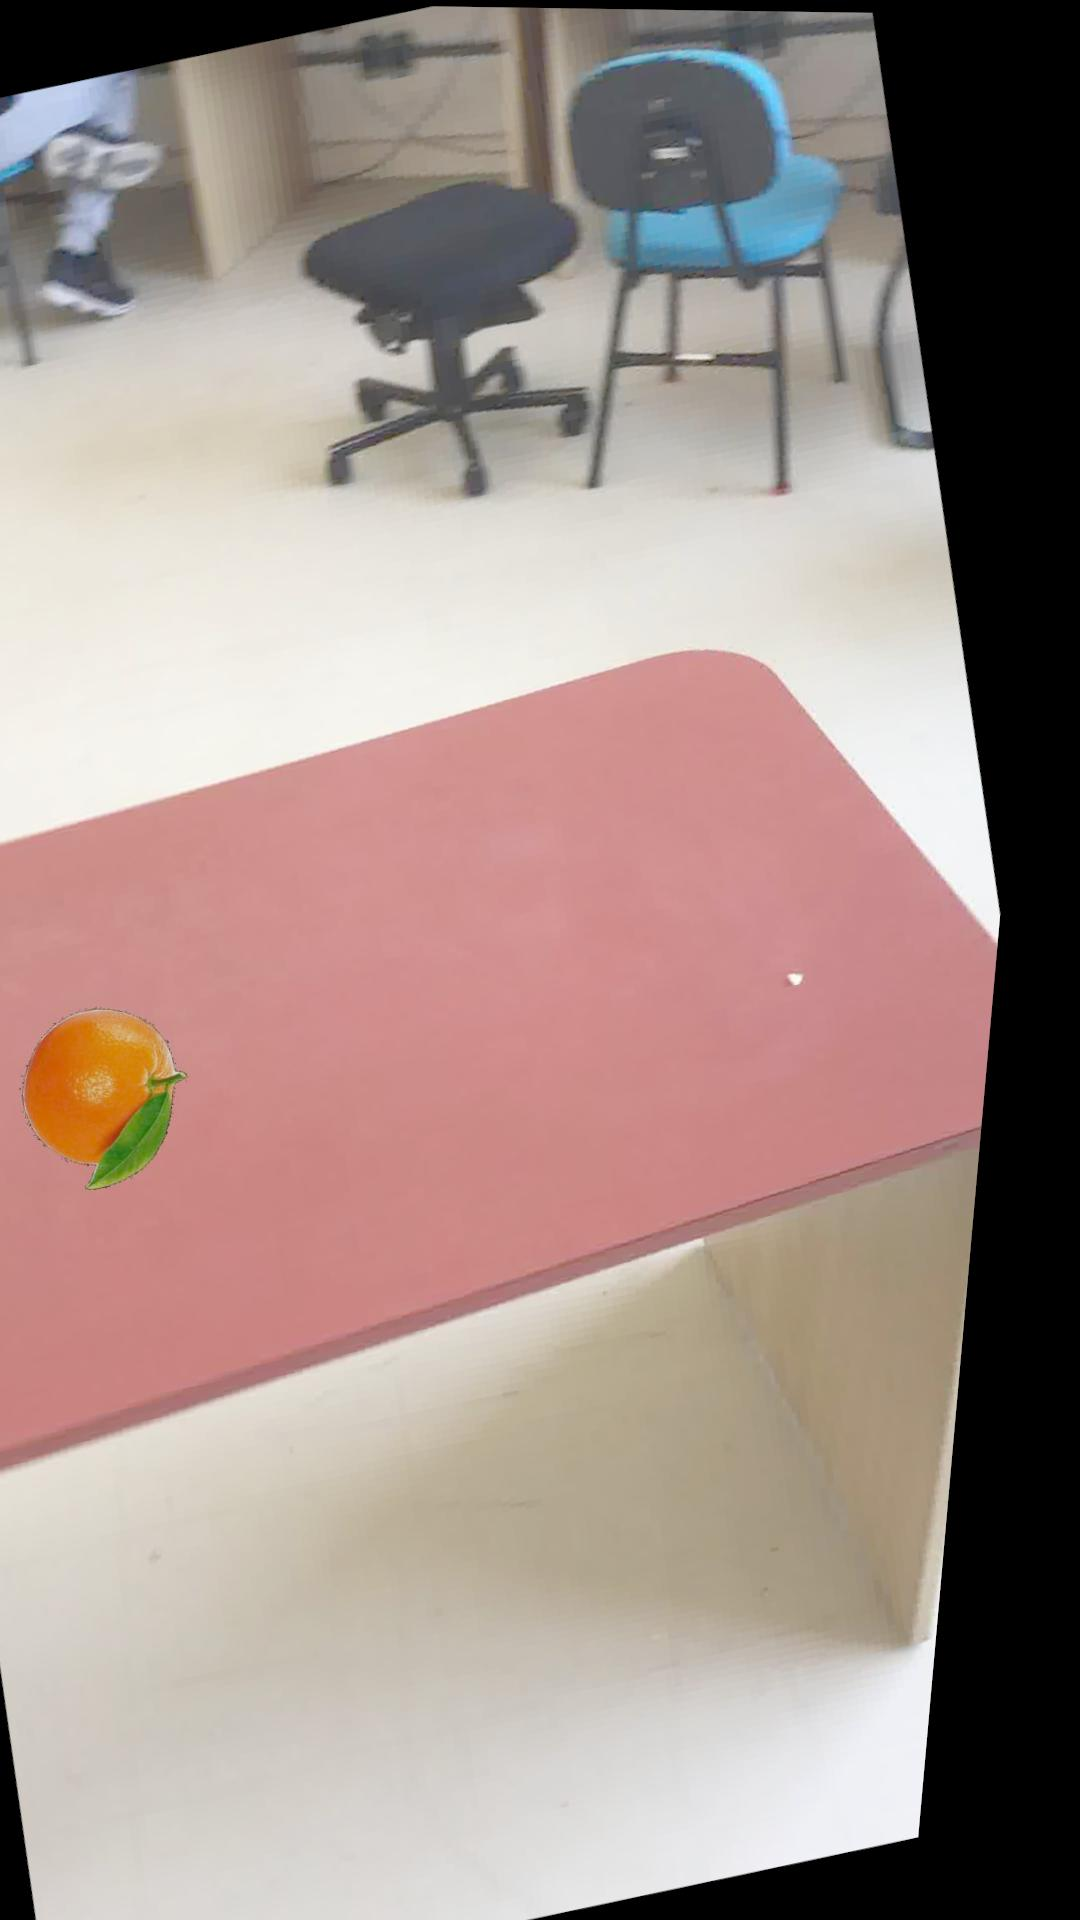orange: (41, 1005, 206, 1188)
